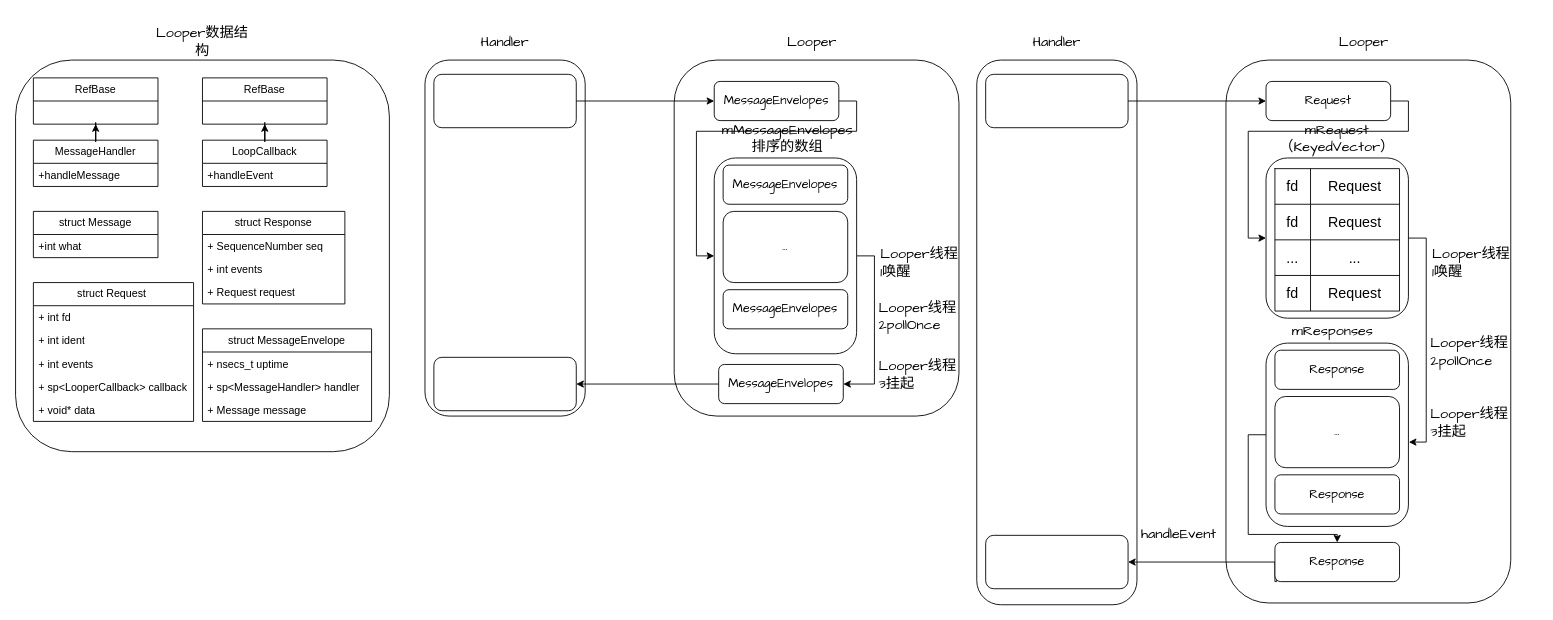
This 1553x620 diagram has some shape labels left out. Here are the shapes that lost their labels. From the top down, the centre of each, then its label:
At (504,100): "sendMessage".
At (1056,100): "AddFd".
At (504,383): "handlerMessage".
At (1056,561): "CallBack".
